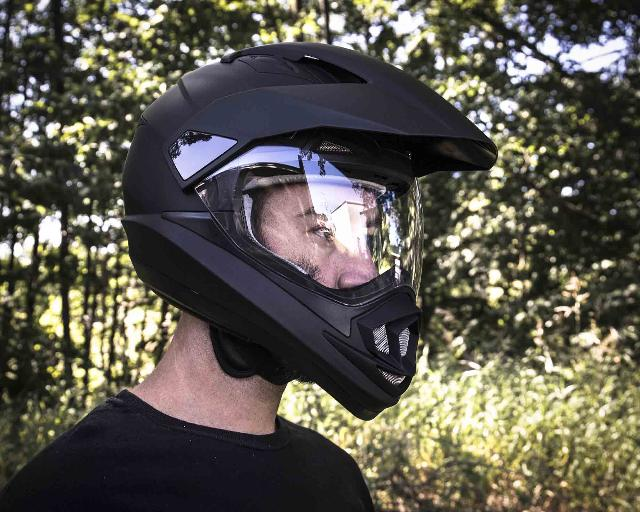helm: (116, 39, 499, 425)
